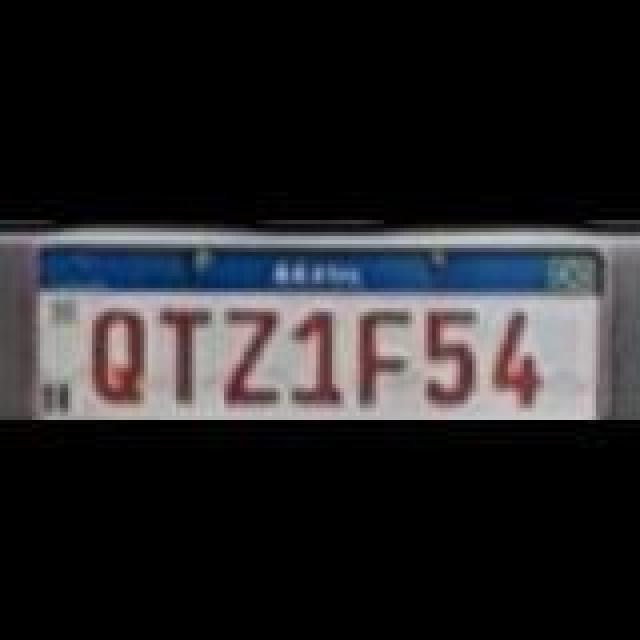1: (292, 310, 348, 410)
4: (492, 308, 548, 412)
5: (424, 304, 480, 408)
F: (360, 304, 416, 408)
Q: (88, 302, 144, 402)
T: (158, 302, 210, 402)
Z: (216, 308, 280, 404)
